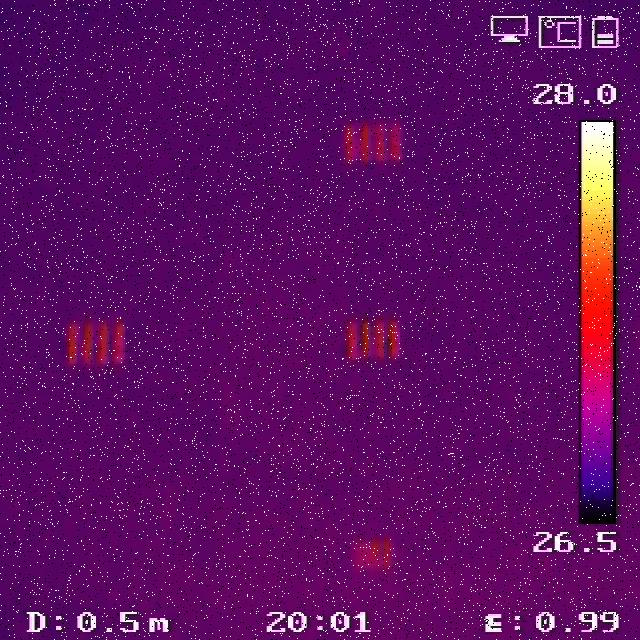Distinguishable 4-bar target: (65, 320, 128, 368), (345, 319, 403, 361)
Indistinguishable 4-bar target: (346, 537, 398, 573)
threshold 4-bar target: (345, 122, 404, 163)
